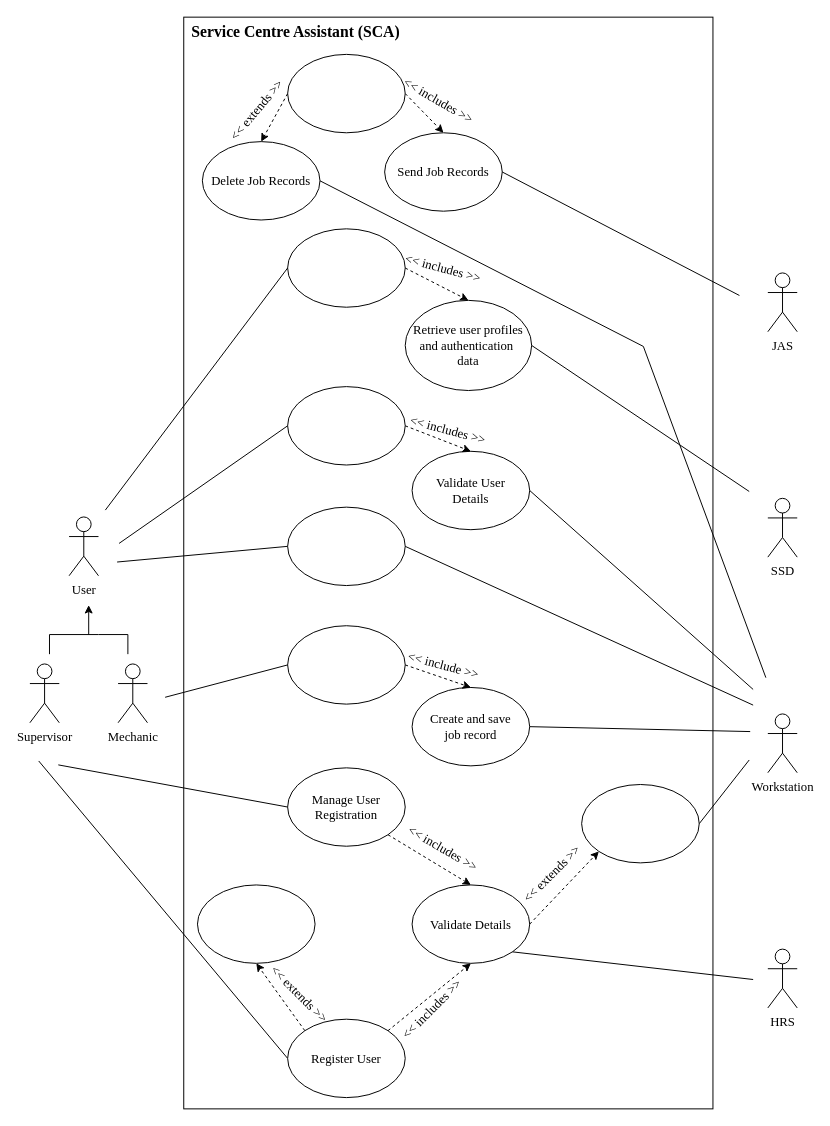
The diagram is 830 pixels wide and 1126 high, and some of its shapes have lost their labels. Here are the shapes that lost their labels. From the top down, the centre of each, then its label:
the point at 346,93: Shut-down System
the point at 346,267: Start-up System
the point at 346,425: Login User
the point at 346,546: Logout User
the point at 346,664: Manage Vehicle Service
the point at 640,823: Save User Profile
the point at 255,923: Create User Profile
